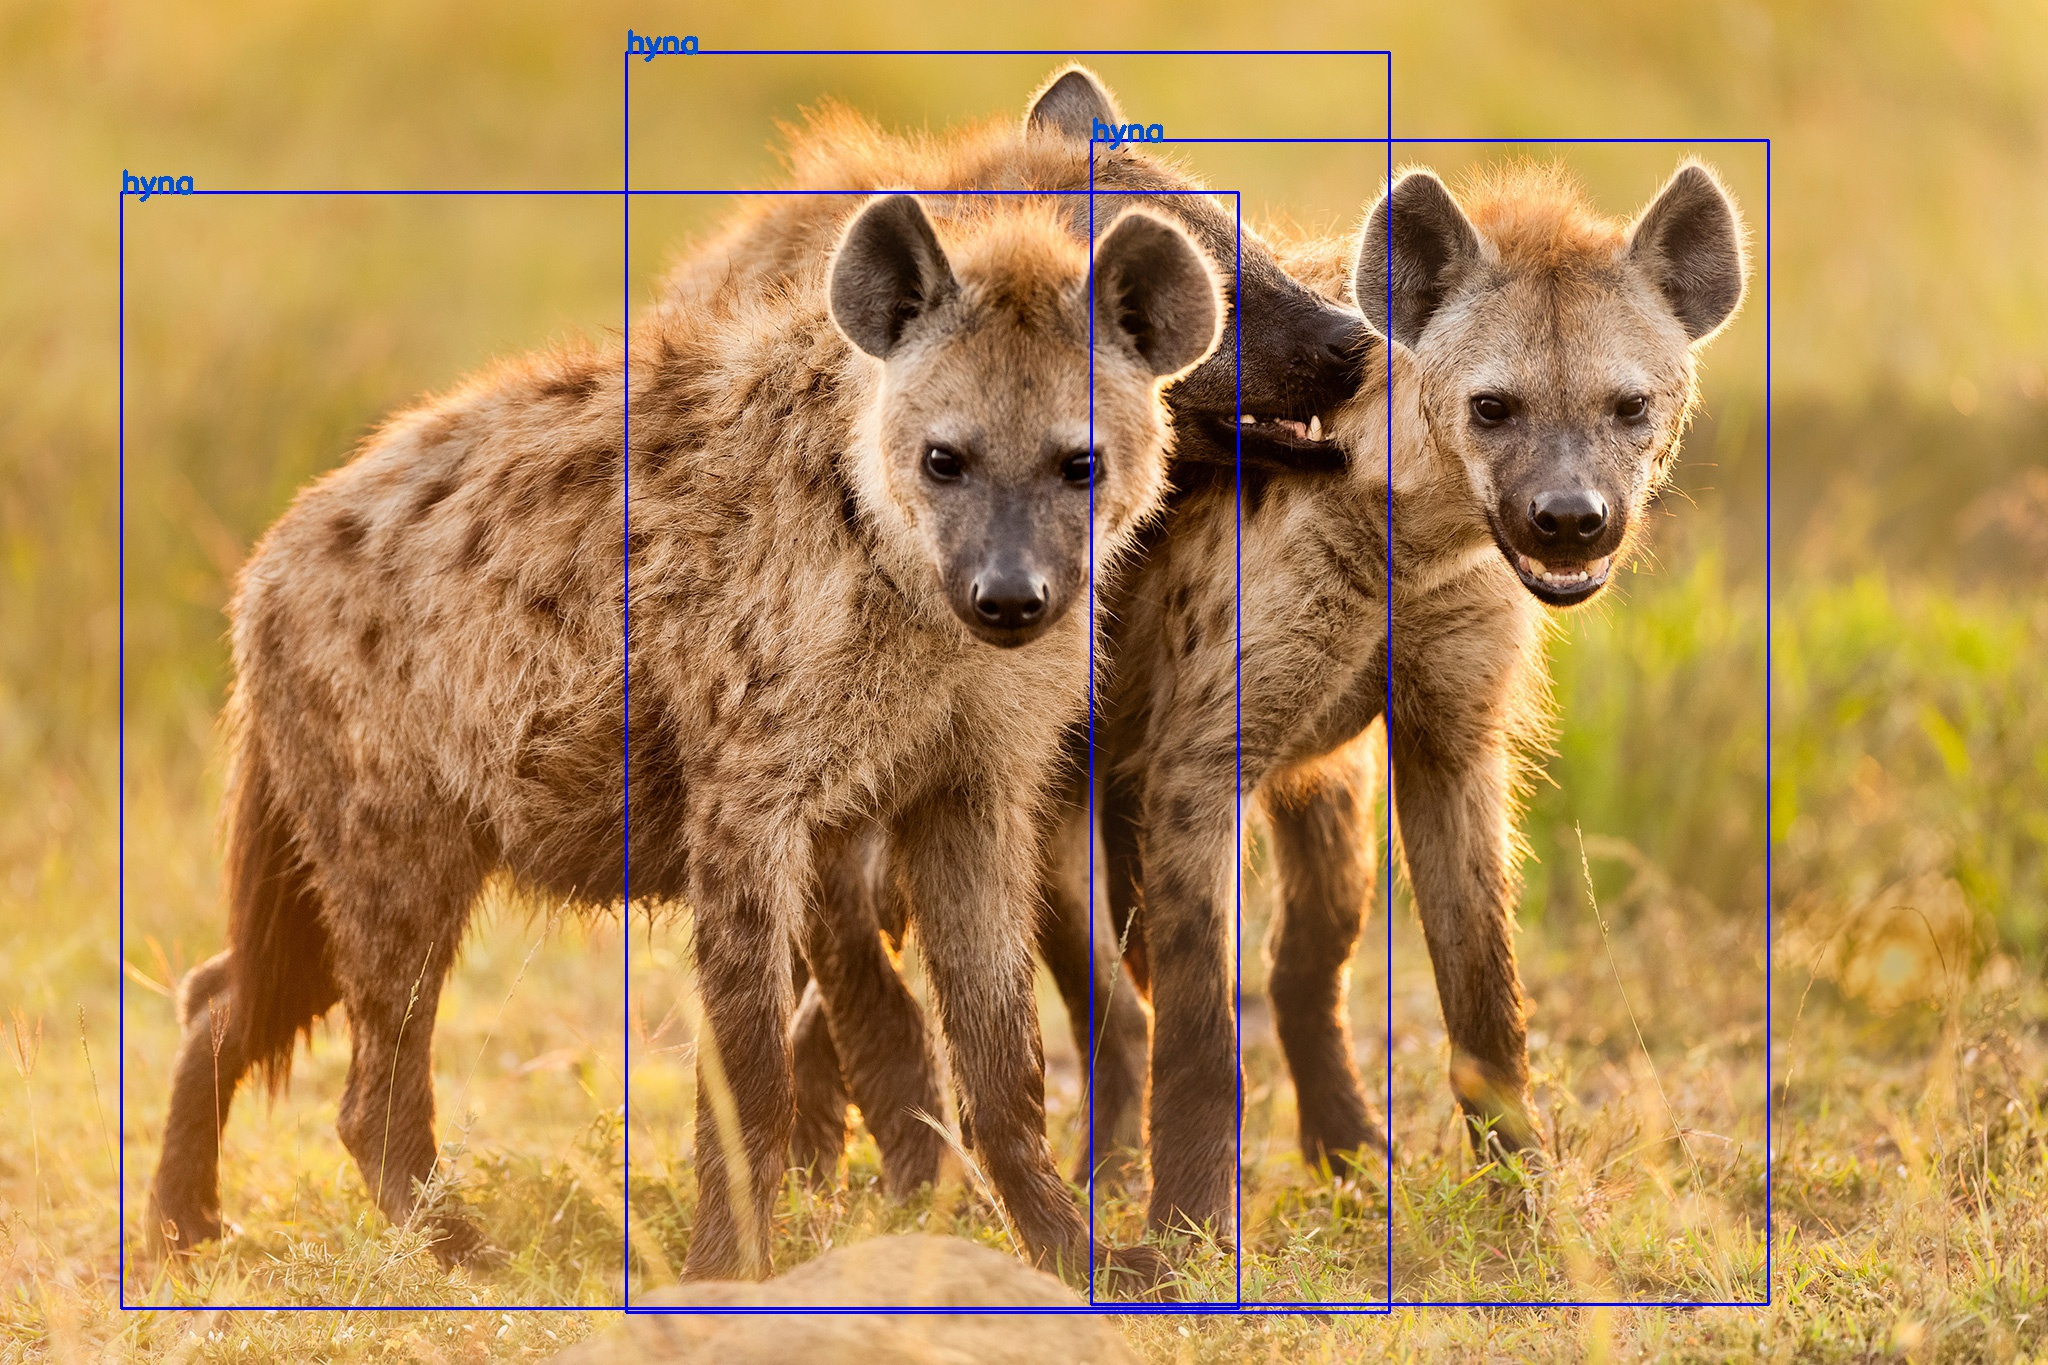hyna: (120, 192, 1236, 1309), (624, 52, 1389, 1312), (1092, 140, 1766, 1304)
